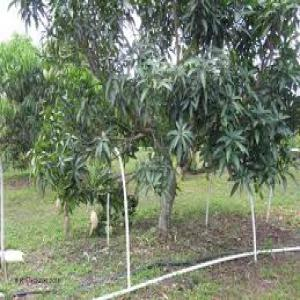Tree: (5, 0, 298, 240)
